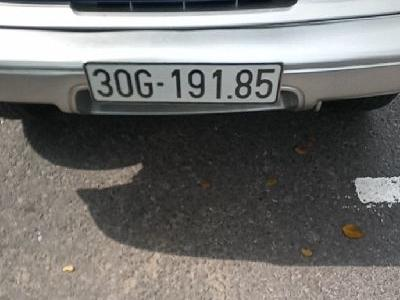lisence: (84, 60, 284, 105)
